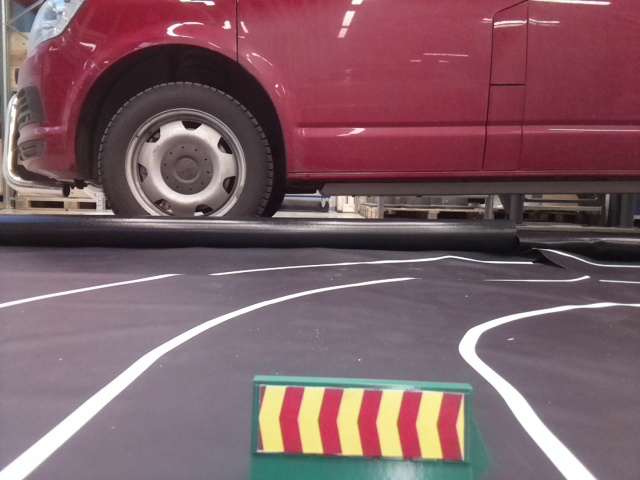ClosedRoadStand: (253, 375, 474, 473)
